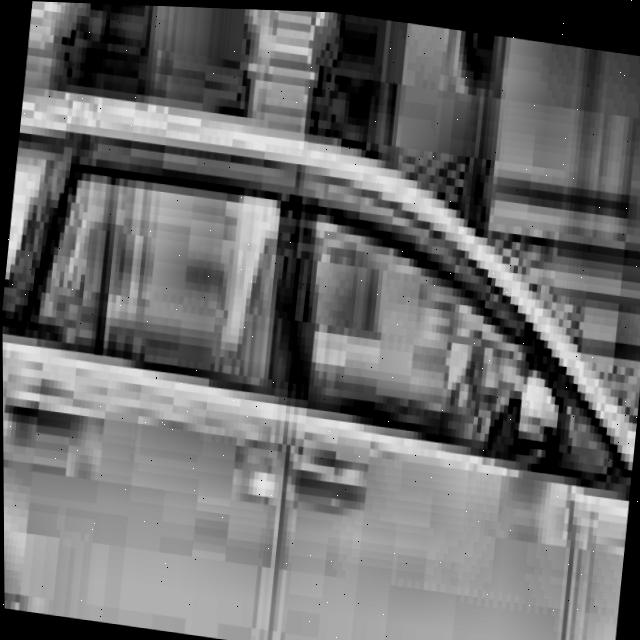light_vehicle: (0, 60, 640, 640)
